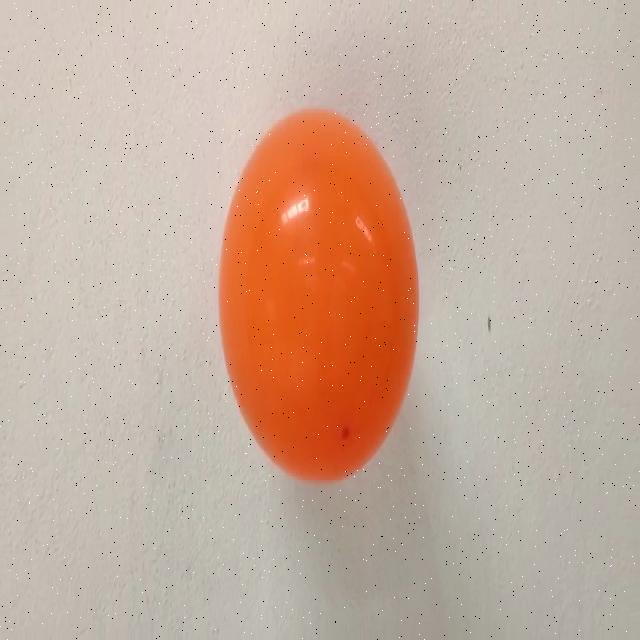red: (216, 107, 420, 483)
